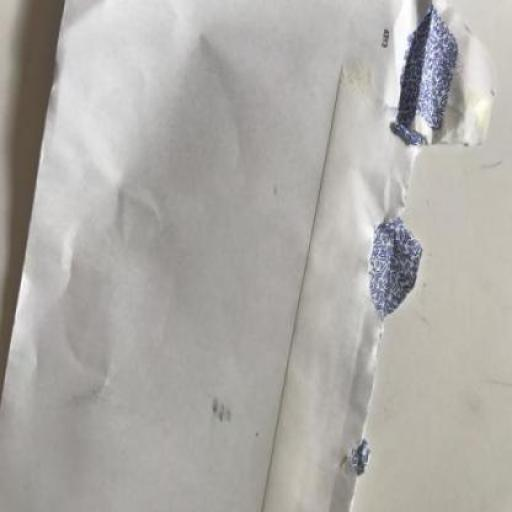paper: (0, 0, 496, 511)
